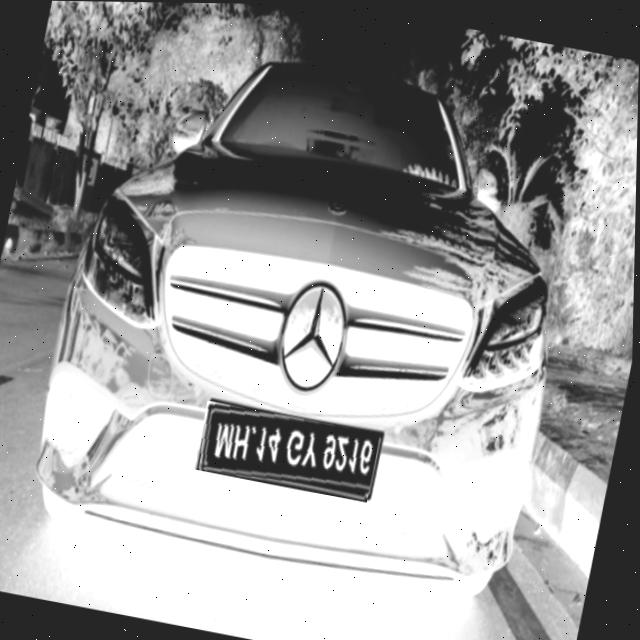Non_registered: (195, 400, 382, 501)
